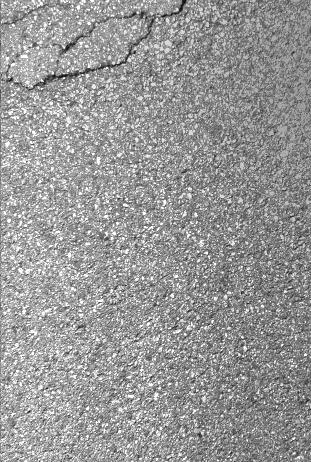crack: (0, 1, 198, 92)
